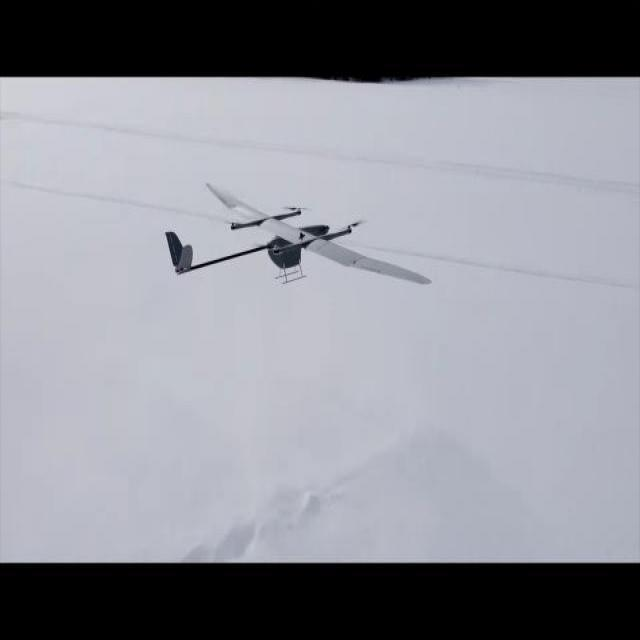UAV: (179, 185, 391, 322)
